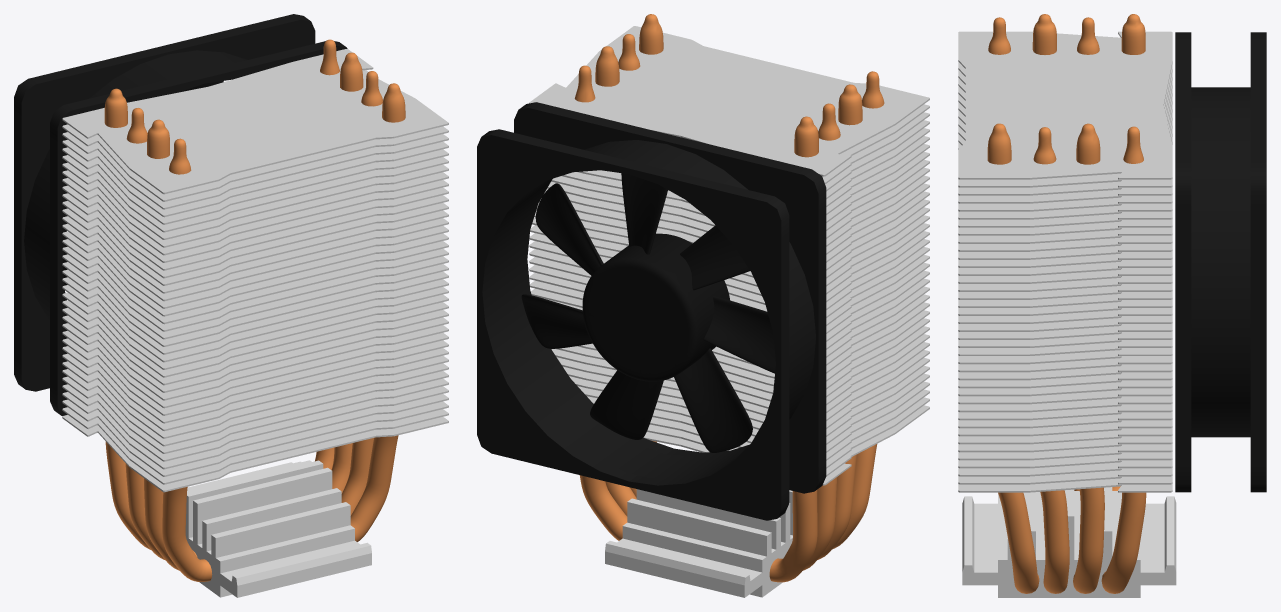
The model's file is cooler.glb.
3 renders of one model, left to right at view 1: azimuth 30°, elevation 25°; view 2: azimuth 150°, elevation 25°; view 3: azimuth 270°, elevation 25°, orthographic. The views are drawn at different scales.
Parts seen in each view (by area): view 1: Object_4, Object_6, Object_5, Object_3; view 2: Object_4, Object_6, Object_2, Object_3, Object_5; view 3: Object_4, Object_6, Object_3, Object_5.
Part boxes in pixels (x1,y1,x2,y2): Object_4: (62,49,448,492); Object_6: (14,14,347,416); Object_5: (185,460,371,597); Object_3: (104,39,405,581); Object_4: (529,26,929,485); Object_6: (477,102,826,520); Object_2: (521,173,775,452); Object_3: (574,14,884,582); Object_5: (605,489,792,597); Object_4: (958,31,1172,492); Object_6: (1175,32,1266,492); Object_3: (987,14,1146,593); Object_5: (962,487,1176,597).
Size of the model in its own units: 2.93 by 4.48 by 2.53.
